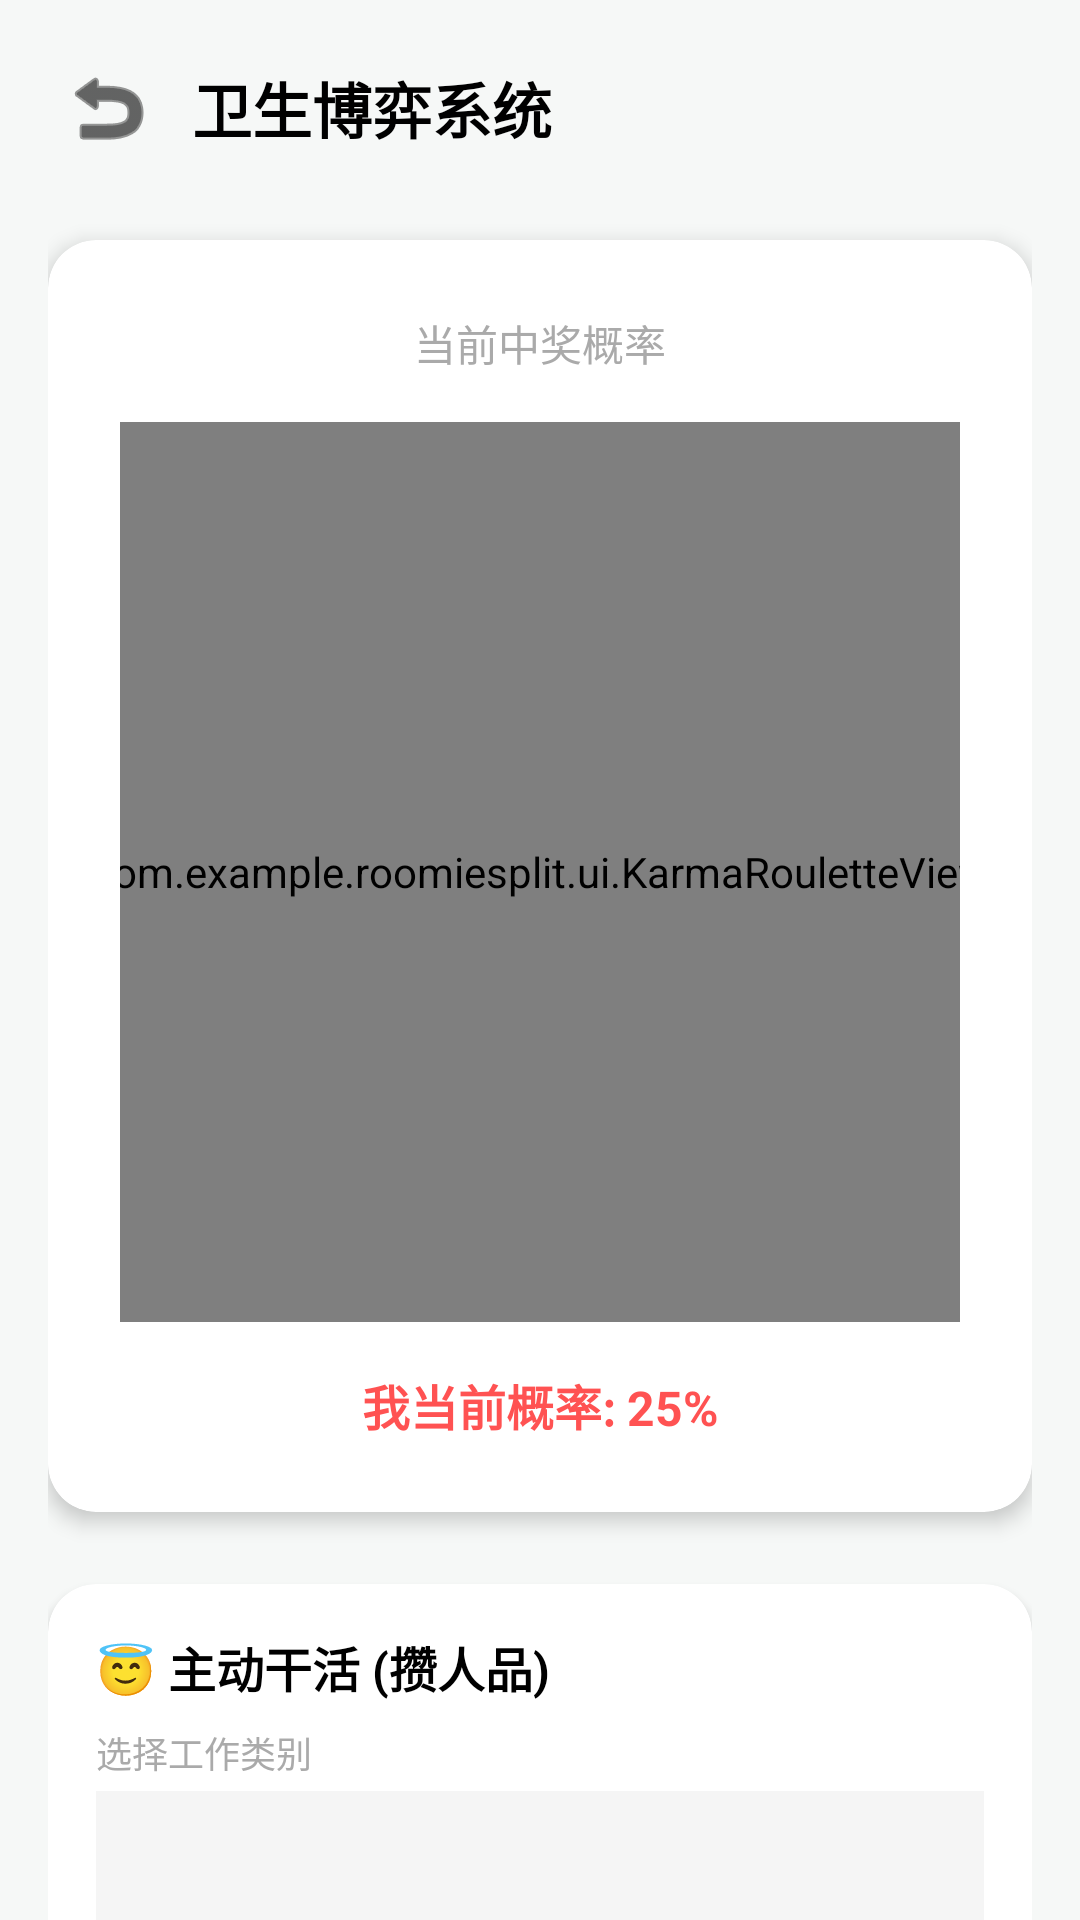

Icon bounding boxes for this 1080 x 1920 phone screenshot, format BBox(x1, y1, x2, y2):
Back: BBox(75, 77, 144, 140)
